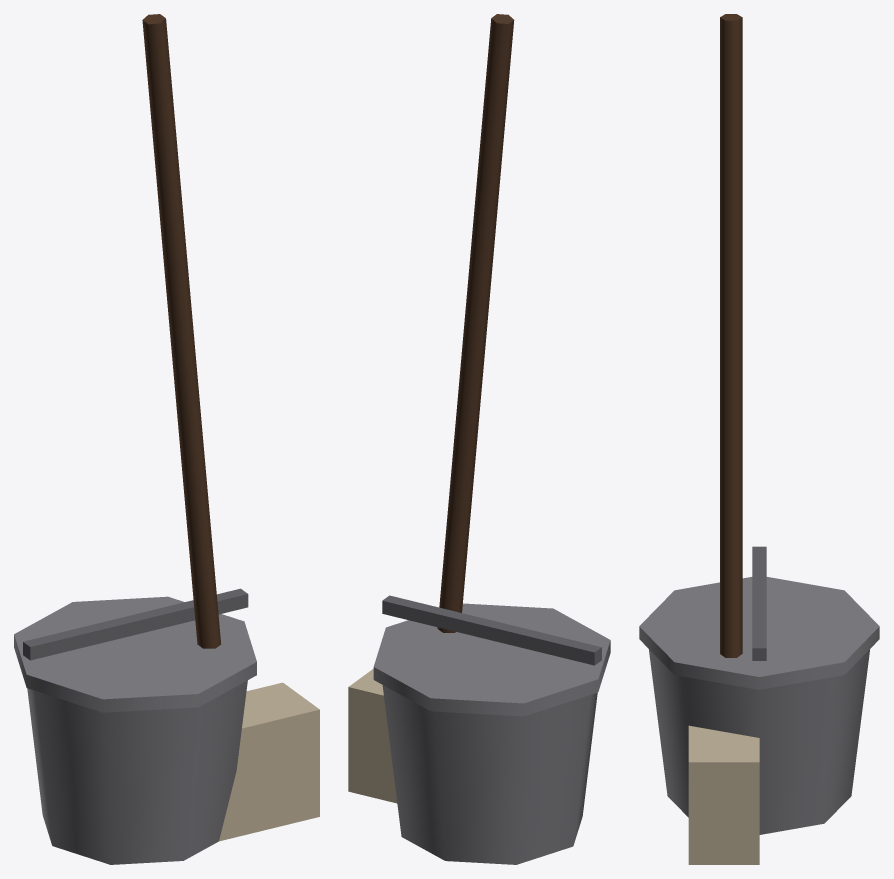
File: PRP_P2_Bucket_Mop_A.obj
The picture shows the model from 3 angles, left to right: view 1: azimuth 30°, elevation 25°; view 2: azimuth 150°, elevation 25°; view 3: azimuth 270°, elevation 25°; orthographic projection. The views are drawn at different scales.
Visible parts, largest first — view 1: bucket, bucket_rim, mop_shaft, mop_head, handle_bail; view 2: bucket, bucket_rim, mop_shaft, mop_head, handle_bail; view 3: bucket, bucket_rim, mop_shaft, mop_head, handle_bail.
Boxes of the visible parts, left/top/right/bottom form: bucket: left=27, top=680, right=247, bottom=864; bucket_rim: left=14, top=596, right=256, bottom=712; mop_shaft: left=142, top=14, right=221, bottom=648; mop_head: left=219, top=682, right=319, bottom=841; handle_bail: left=23, top=588, right=248, bottom=660; bucket: left=382, top=685, right=597, bottom=864; bucket_rim: left=373, top=603, right=610, bottom=716; mop_shaft: left=437, top=14, right=514, bottom=632; mop_head: left=348, top=669, right=397, bottom=803; handle_bail: left=382, top=595, right=601, bottom=665; bucket: left=649, top=649, right=869, bottom=834; bucket_rim: left=639, top=577, right=879, bottom=689; mop_shaft: left=720, top=14, right=742, bottom=657; mop_head: left=688, top=725, right=759, bottom=864; handle_bail: left=752, top=546, right=766, bottom=660.
Bounding box in the file's own units: 0.4 × 1.22 × 0.34.
